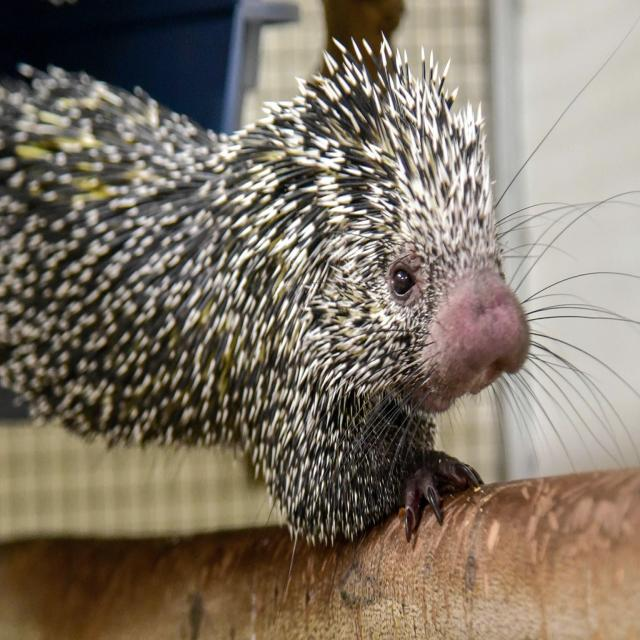porcupine: (0, 35, 532, 543)
